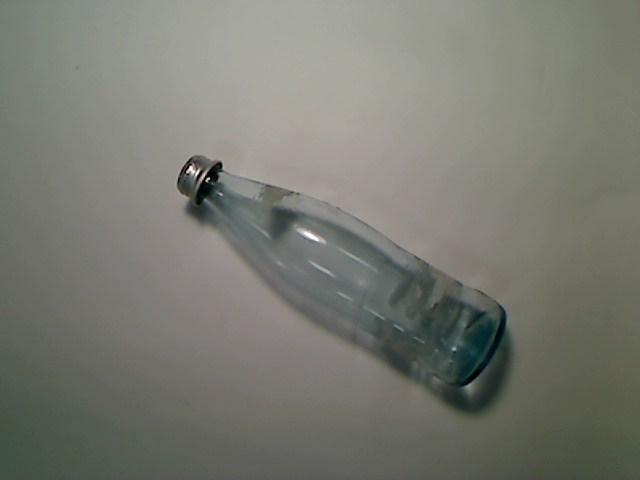bottle: (176, 154, 508, 388)
